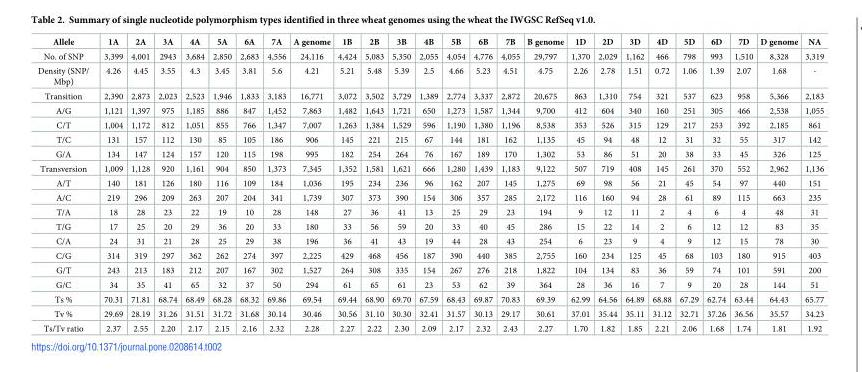table: (38, 37, 824, 332)
table column: (38, 37, 96, 332), (289, 37, 334, 332), (756, 37, 801, 332), (523, 37, 567, 332), (96, 37, 127, 332), (208, 37, 236, 332), (469, 37, 497, 332), (675, 37, 703, 332), (127, 37, 154, 332), (154, 37, 181, 332), (181, 37, 208, 332), (236, 37, 263, 332), (334, 37, 361, 332), (361, 37, 388, 332), (388, 37, 415, 332), (415, 37, 442, 332), (442, 37, 469, 332), (567, 37, 594, 332), (594, 37, 621, 332), (621, 37, 648, 332), (648, 37, 675, 332), (703, 37, 730, 332), (263, 37, 289, 332), (497, 37, 523, 332), (730, 37, 756, 332), (801, 37, 824, 332)
table column header: (38, 37, 824, 48)
table row: (38, 63, 824, 88), (38, 48, 824, 63), (38, 88, 824, 103), (38, 117, 824, 132), (38, 146, 824, 161), (38, 175, 824, 190), (38, 204, 824, 219), (38, 233, 824, 248), (38, 262, 824, 277), (38, 291, 824, 306), (38, 306, 824, 321), (38, 103, 824, 117), (38, 132, 824, 146), (38, 161, 824, 175), (38, 190, 824, 204), (38, 219, 824, 233), (38, 248, 824, 262), (38, 277, 824, 291), (38, 37, 824, 48), (38, 321, 824, 332)
